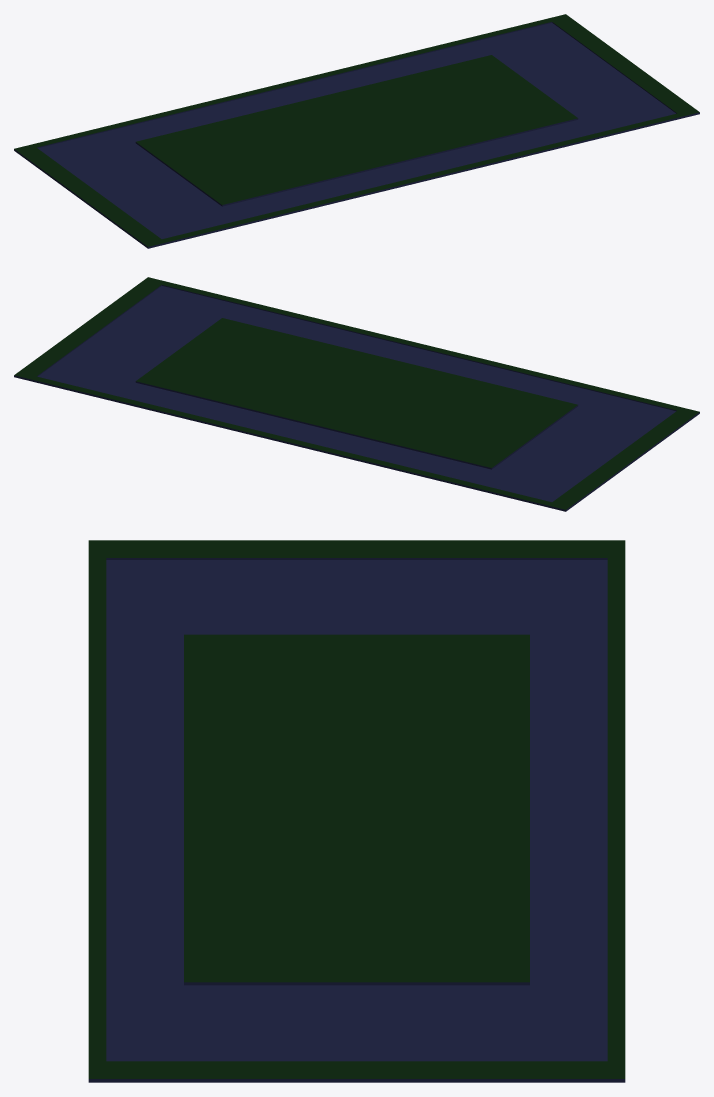
File: Rug Square Small.fbx
3 renders of one model, top to bottom at view 1: azimuth 30°, elevation 25°; view 2: azimuth 150°, elevation 25°; view 3: azimuth 270°, elevation 25°, orthographic. The views are drawn at different scales.
Parts seen in each view (by area): view 1: Rug 5.001; view 2: Rug 5.001; view 3: Rug 5.001.
Boxes of the visible parts, x1,y1,x2,y2 form: Rug 5.001: [14, 14, 699, 248]; Rug 5.001: [14, 277, 699, 511]; Rug 5.001: [88, 540, 625, 1082].
Bounding box in the file's own units: 433 × 1.83 × 182.
